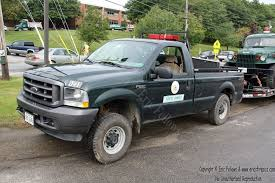Vehicle: (16, 33, 275, 137)
